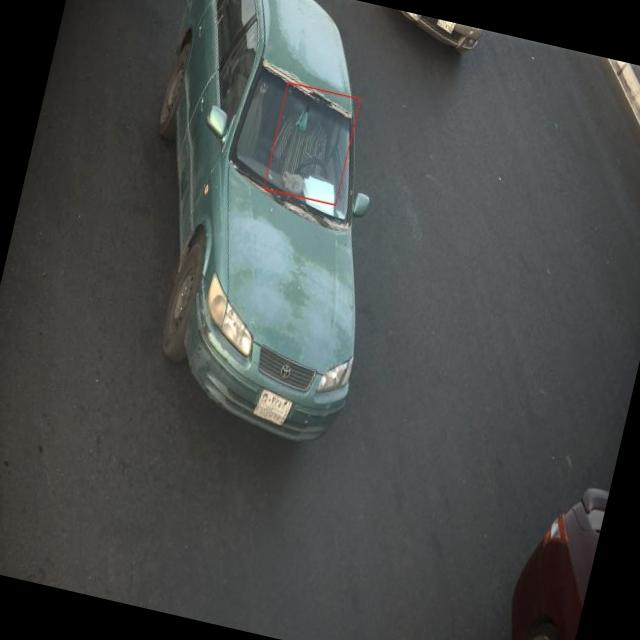person_without_seatbelt: (266, 94, 355, 204)
